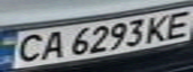2: (87, 22, 112, 55)
3: (124, 16, 151, 47)
6: (66, 25, 93, 57)
9: (106, 20, 133, 52)
A: (33, 28, 69, 61)
C: (6, 32, 48, 65)
E: (157, 8, 193, 39)
K: (142, 11, 178, 43)
